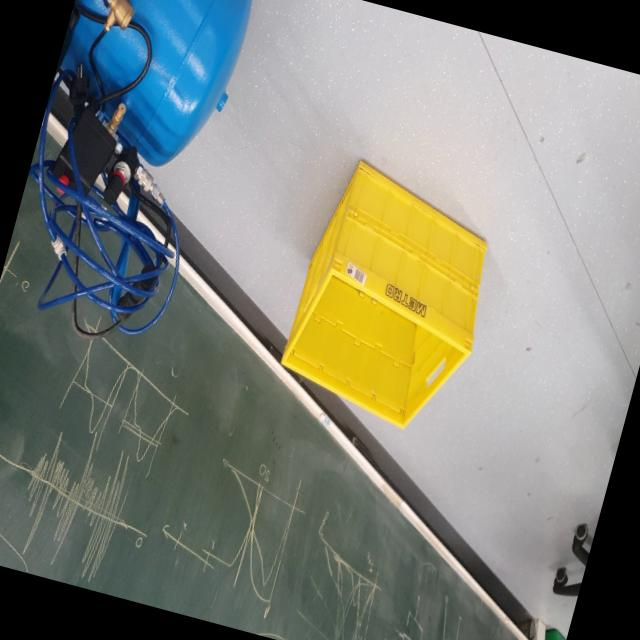box: (260, 119, 527, 456)
